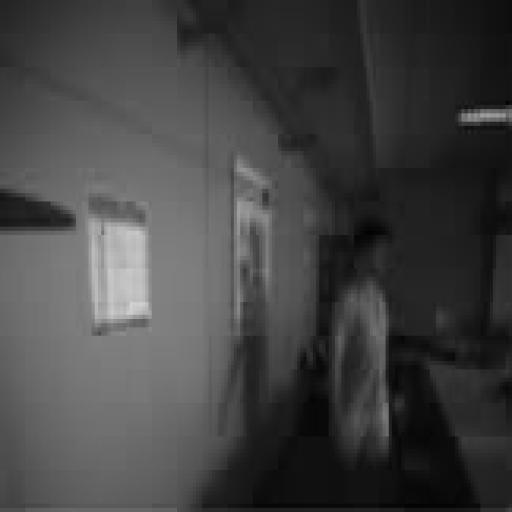human: (329, 219, 395, 503)
